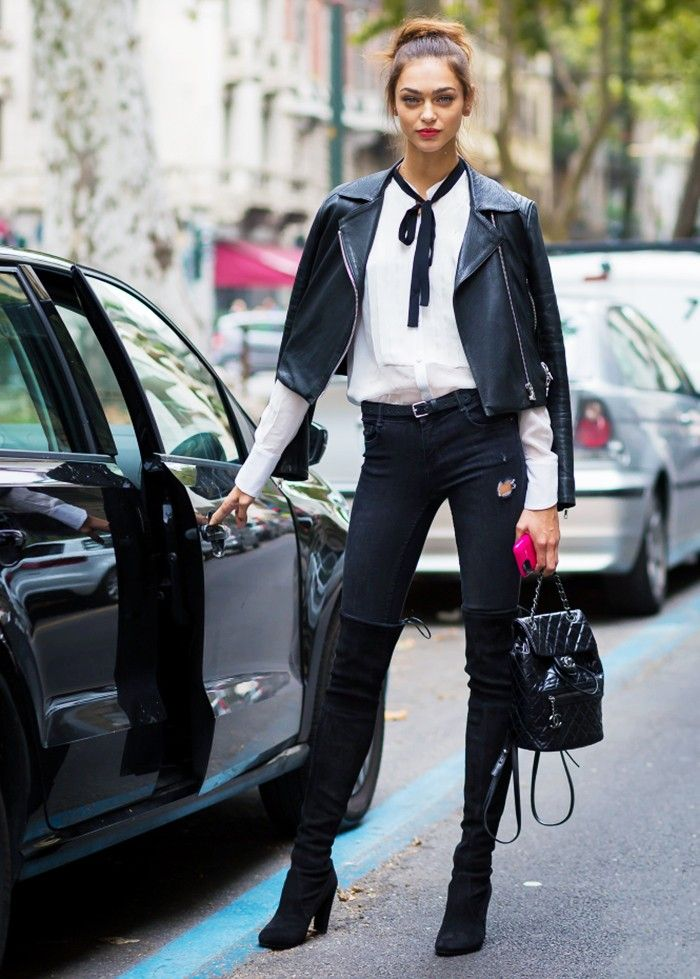channel: (482, 593, 631, 751), (557, 652, 583, 679), (544, 711, 570, 733)
